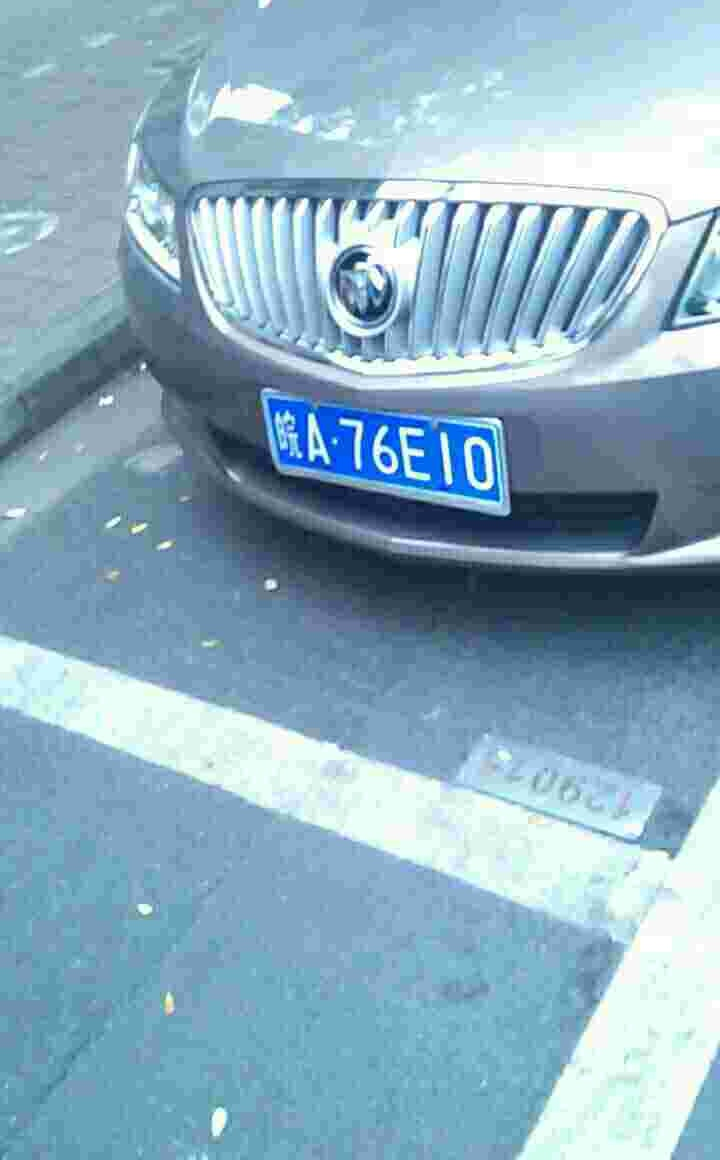license_plate: (265, 396, 507, 504)
